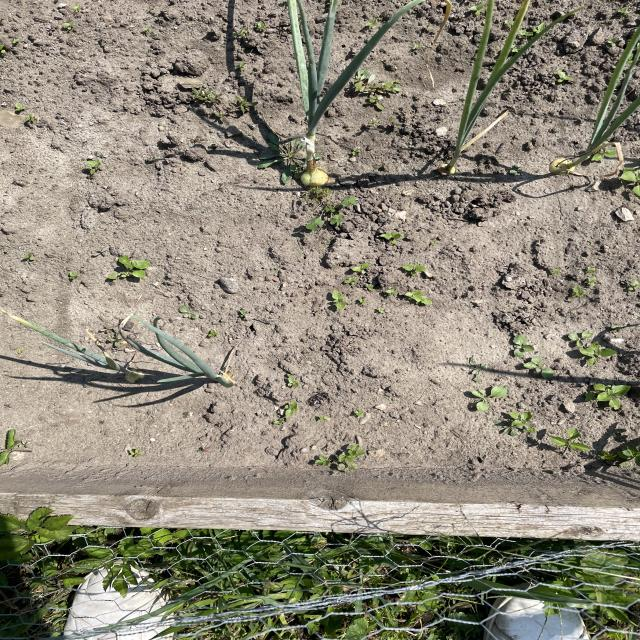Onion: (436, 0, 571, 176), (296, 0, 397, 189), (546, 33, 640, 180), (27, 318, 150, 388), (128, 325, 243, 391)
weed: (293, 194, 365, 238), (330, 262, 385, 316), (509, 333, 559, 384), (347, 70, 407, 112), (563, 328, 623, 367), (102, 254, 160, 286), (309, 444, 367, 476), (582, 381, 636, 406), (554, 426, 592, 461), (465, 386, 509, 416), (496, 406, 540, 432), (397, 286, 433, 316)
